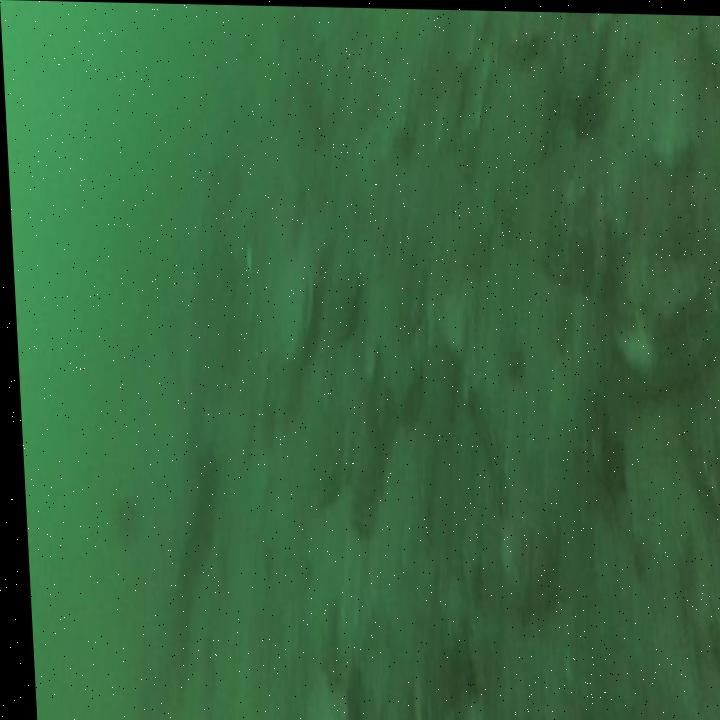scallop: (267, 257, 313, 366)
